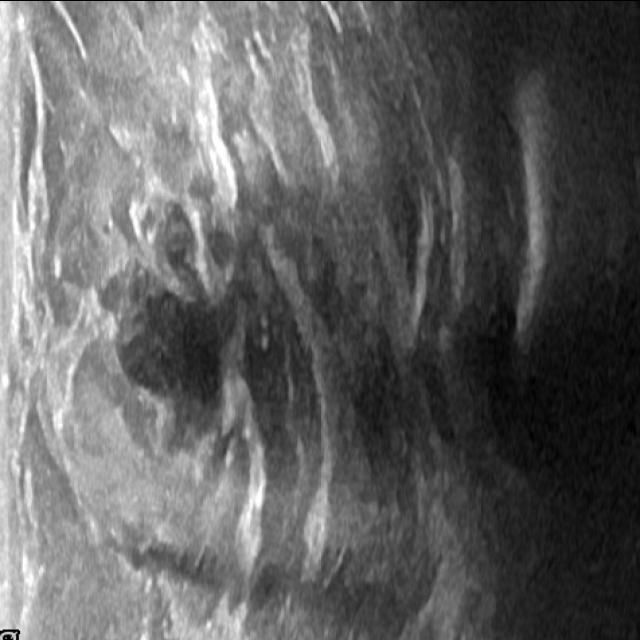Malignant: (92, 276, 210, 412)
